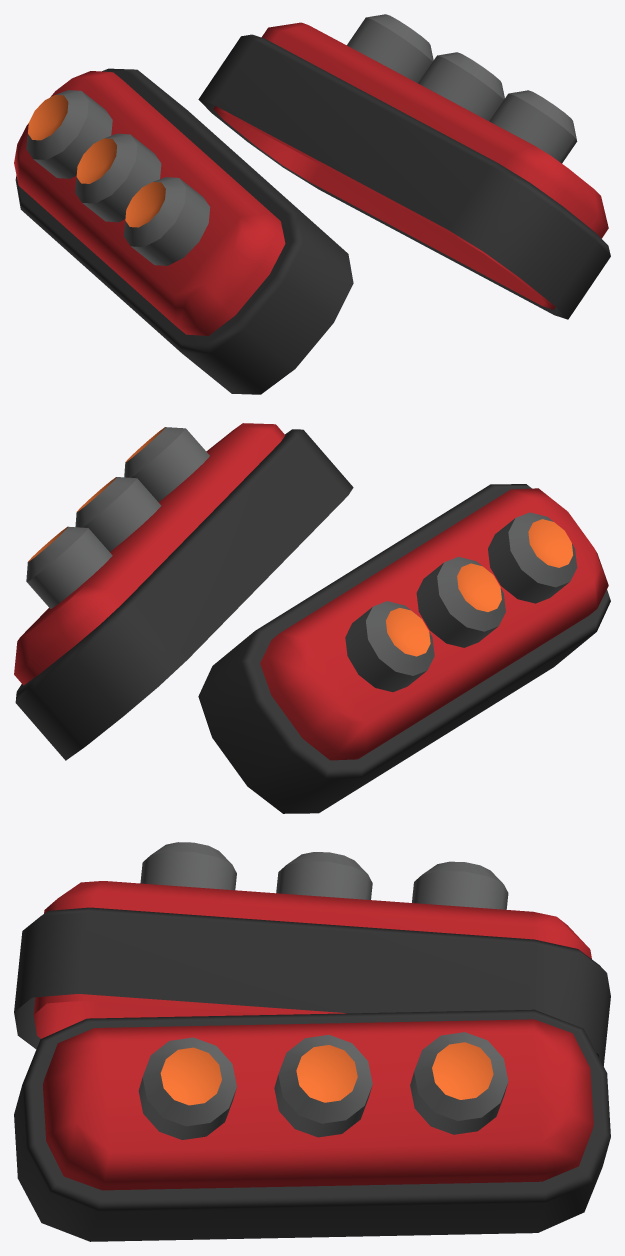
Rendered from Car_06_Engine.fbx.
The picture shows the model from 3 angles, top to bottom: view 1: azimuth 30°, elevation 25°; view 2: azimuth 150°, elevation 25°; view 3: azimuth 270°, elevation 25°; orthographic projection. The views are drawn at different scales.
Visible parts, largest first — view 1: Car_06_Engine; view 2: Car_06_Engine; view 3: Car_06_Engine.
Boxes of the visible parts, left/top/right/bottom form: Car_06_Engine: left=14, top=14, right=610, bottom=394; Car_06_Engine: left=14, top=423, right=610, bottom=813; Car_06_Engine: left=14, top=842, right=610, bottom=1241.
Bounding box in the file's own units: 68.67 × 71.46 × 29.05.
